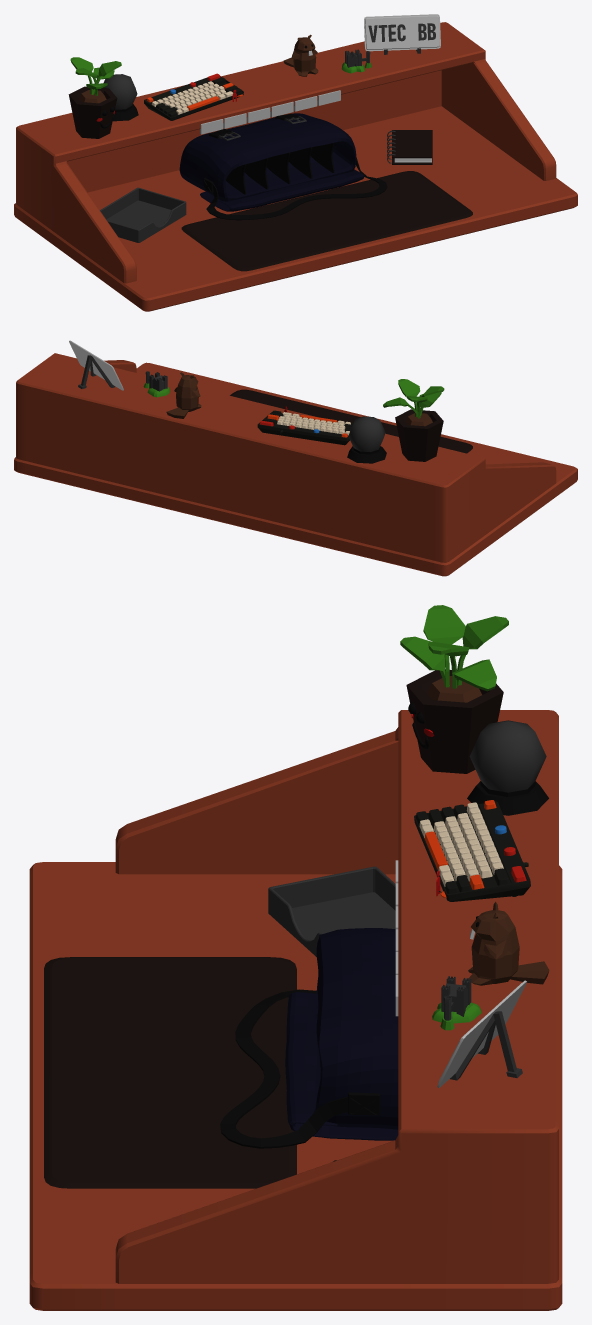
The model's file is FinalDesk.fbx.
3 views of the same model, one above another, from view 1: azimuth 30°, elevation 25°; view 2: azimuth 150°, elevation 25°; view 3: azimuth 270°, elevation 25° (orthographic). The views are drawn at different scales.
Parts seen in each view (by area): view 1: Table, MailBag, MailMat, PostcardTray, CarPlate, Keyboard, PlantPot, AddressTags, AddressBook, plant, Beaver_Body, Snowglobe_Glass (+1 smaller); view 2: Table, Keyboard, MailMat, PlantPot, Snowglobe_Glass, plant, Beaver_Body, CarPlate, Snowglobe_Base, ItemStand, castlestructure; view 3: Table, MailMat, MailBag, Keyboard, PostcardTray, PlantPot, plant, Snowglobe_Glass, Beaver_Body, CarPlate, Snowglobe_Base, ItemStand (+2 smaller).
Boxes of the visible parts, <box> form: Table: <box>14,22,577,311</box>; MailBag: <box>179,113,387,220</box>; MailMat: <box>181,171,472,271</box>; PostcardTray: <box>100,187,186,242</box>; CarPlate: <box>364,14,440,51</box>; Keyboard: <box>144,76,243,120</box>; PlantPot: <box>68,86,117,138</box>; AddressTags: <box>200,90,340,134</box>; AddressBook: <box>387,130,432,164</box>; plant: <box>70,57,121,95</box>; Beaver_Body: <box>283,34,318,76</box>; Snowglobe_Glass: <box>103,74,137,109</box>; Table: <box>14,353,577,576</box>; Keyboard: <box>257,410,353,445</box>; MailMat: <box>230,389,472,453</box>; PlantPot: <box>395,409,443,461</box>; Snowglobe_Glass: <box>348,416,385,452</box>; plant: <box>383,379,444,418</box>; Beaver_Body: <box>166,372,201,418</box>; CarPlate: <box>69,340,123,390</box>; Snowglobe_Base: <box>347,446,386,463</box>; ItemStand: <box>78,355,115,388</box>; castlestructure: <box>145,371,167,391</box>; Table: <box>29,710,562,1310</box>; MailMat: <box>44,957,296,1188</box>; MailBag: <box>220,928,398,1148</box>; Keyboard: <box>414,801,530,901</box>; PostcardTray: <box>268,866,395,956</box>; PlantPot: <box>406,669,503,773</box>; plant: <box>400,605,508,691</box>; Snowglobe_Glass: <box>469,720,546,792</box>; Beaver_Body: <box>468,901,549,985</box>; CarPlate: <box>437,980,526,1087</box>; Snowglobe_Base: <box>467,781,548,815</box>; ItemStand: <box>450,1011,522,1080</box>.
Size of the model in its own units: 151 by 52.32 by 80.
